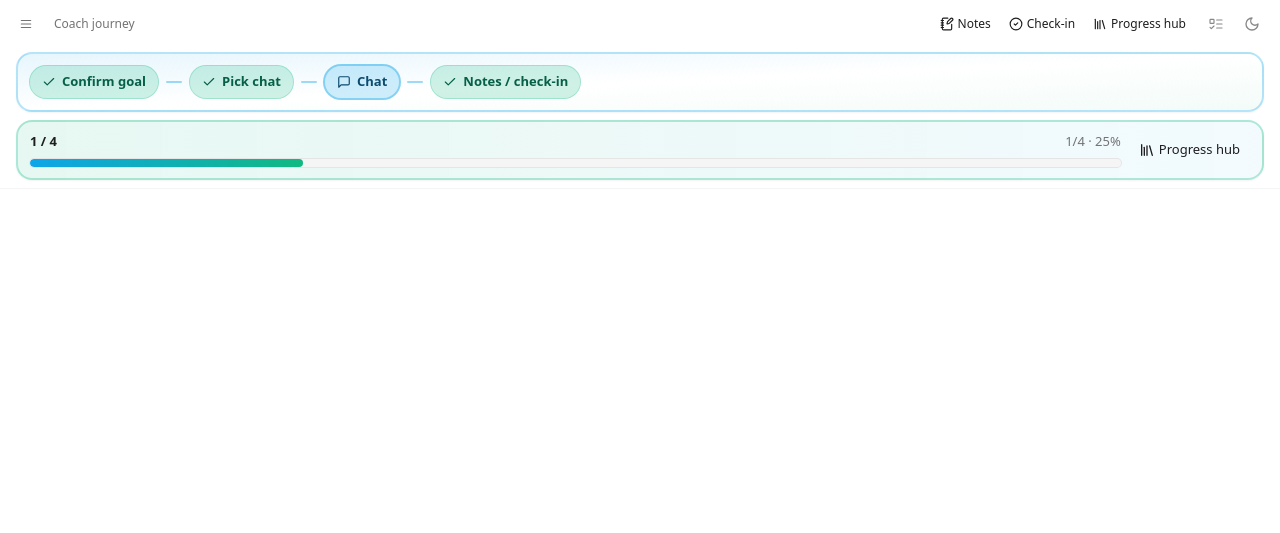
Scenario: ThreadShell › renders coach journey chrome and opens notes from the header
Check: the navigation bar with test id "journey-strip" is shown, box x1=16 y1=52 x2=1264 y2=112
Check: the element with test id "thread-header-coach-actions" is shown, box x1=932 y1=8 x2=1194 y2=40
Step 1. Click the button with aria-label "Open notes" → x=965, y=24, box x1=932 y1=8 x2=999 y2=40
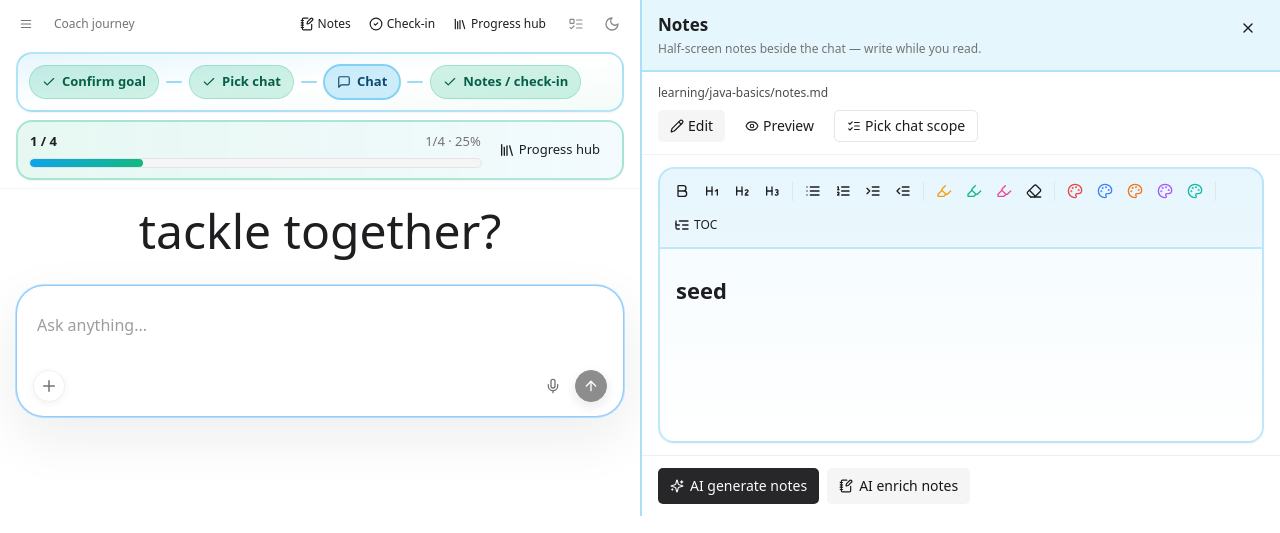
Check: the element with test id "notes-drawer" is shown, box x1=640 y1=0 x2=1279 y2=516
